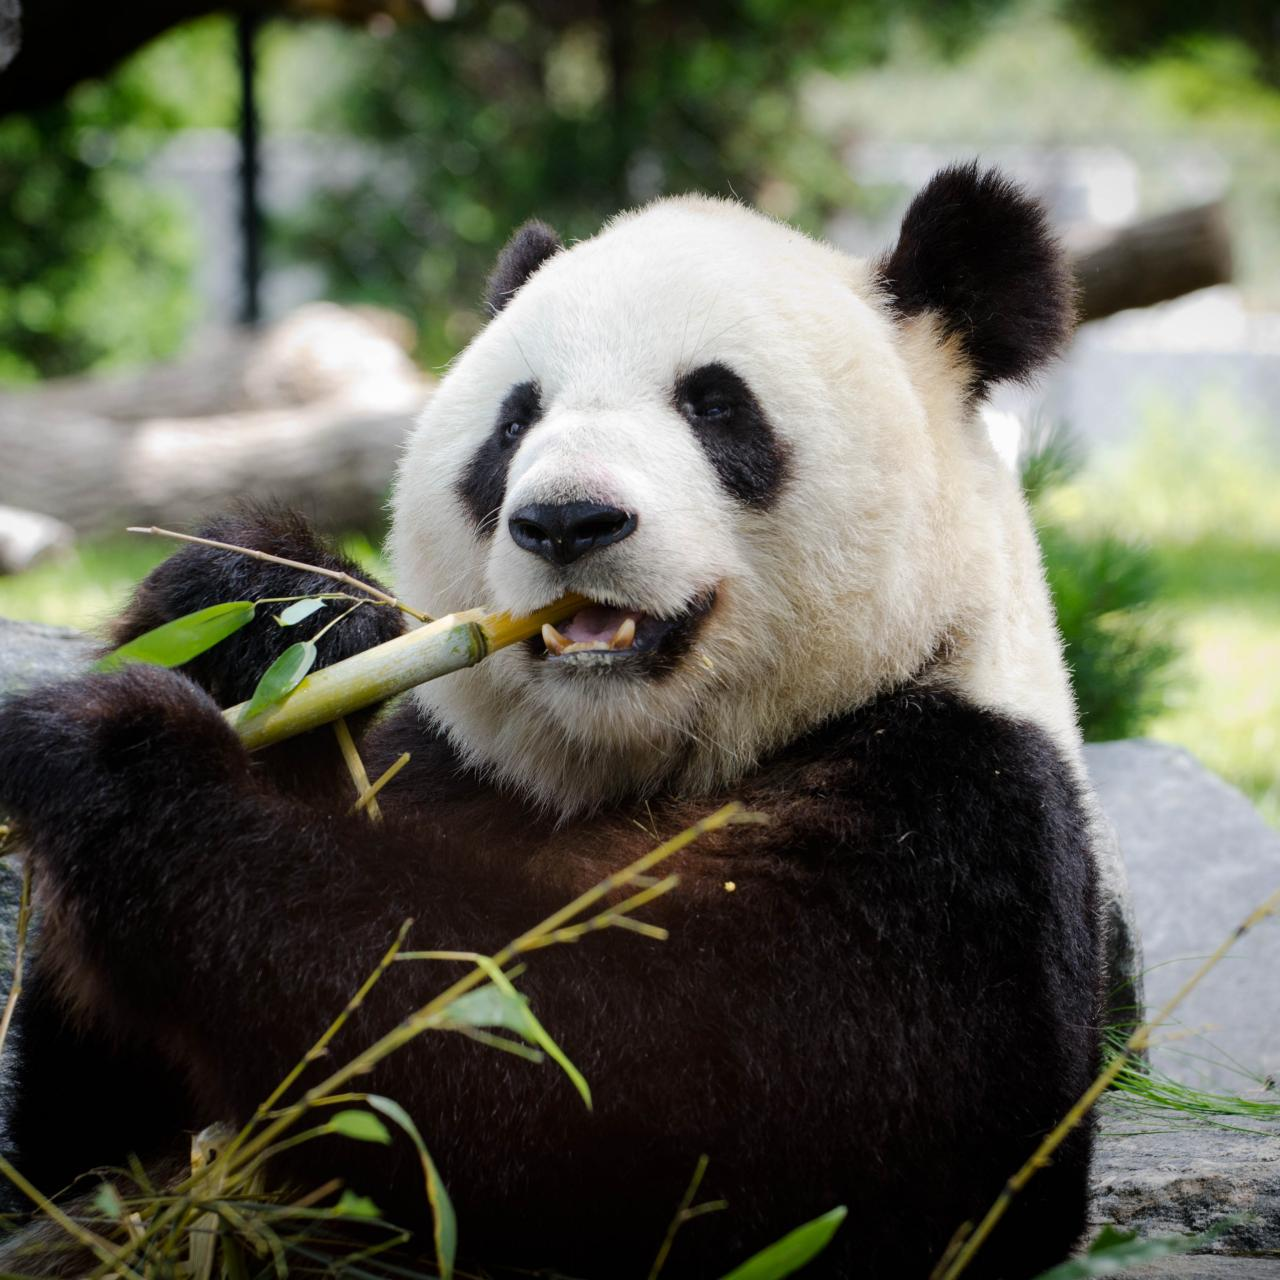Giant panda: (379, 166, 1088, 806)
